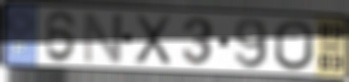3: (179, 16, 215, 68)
6: (44, 10, 77, 65)
9: (233, 17, 270, 70)
N: (81, 10, 125, 66)
O: (272, 18, 316, 73)
X: (133, 13, 174, 67)
